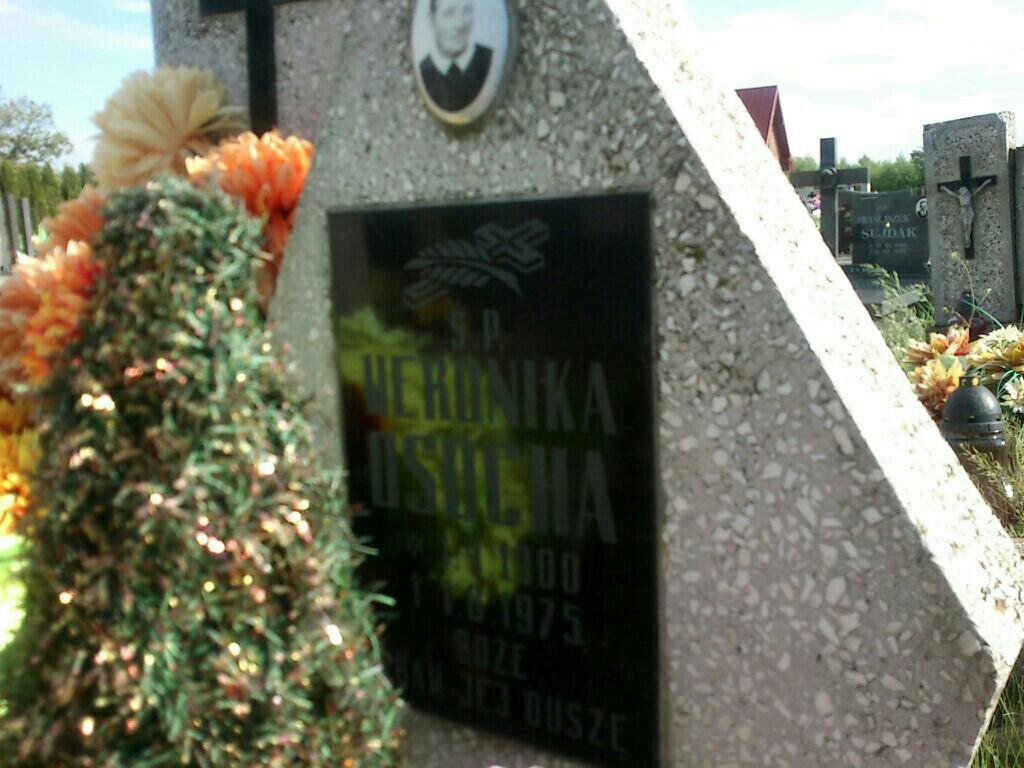upright: (151, 4, 1022, 768)
